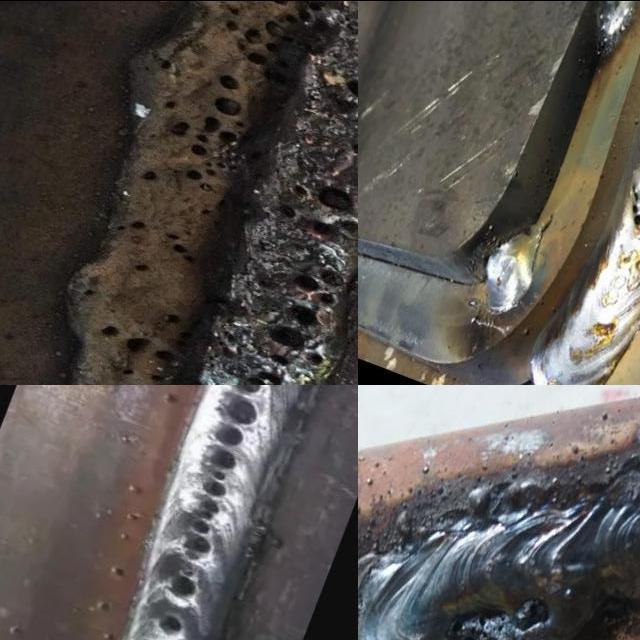defect: (181, 384, 266, 566), (246, 264, 352, 384), (164, 69, 247, 191), (222, 0, 328, 88), (278, 169, 358, 242), (445, 594, 550, 640), (92, 318, 188, 366), (161, 225, 200, 269), (166, 569, 204, 603), (147, 49, 187, 77), (113, 363, 166, 384), (157, 613, 189, 637), (110, 215, 147, 235), (125, 256, 159, 276), (135, 165, 162, 184), (630, 182, 640, 230), (160, 308, 184, 327), (75, 282, 101, 298)
